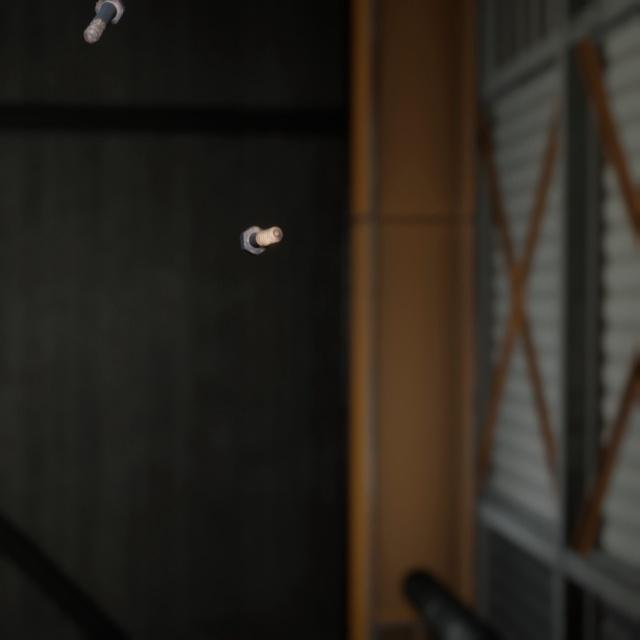bolt: (78, 0, 129, 40), (235, 205, 287, 244)
